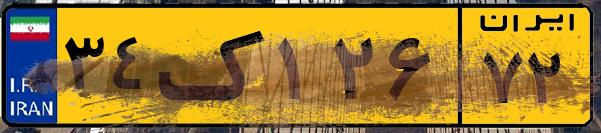1: (270, 28, 330, 110)
2: (330, 28, 385, 110), (525, 38, 570, 115)
3: (57, 26, 110, 100)
4: (110, 28, 158, 98)
6: (385, 28, 445, 110)
7: (475, 38, 525, 113)
ک: (158, 12, 270, 120)
